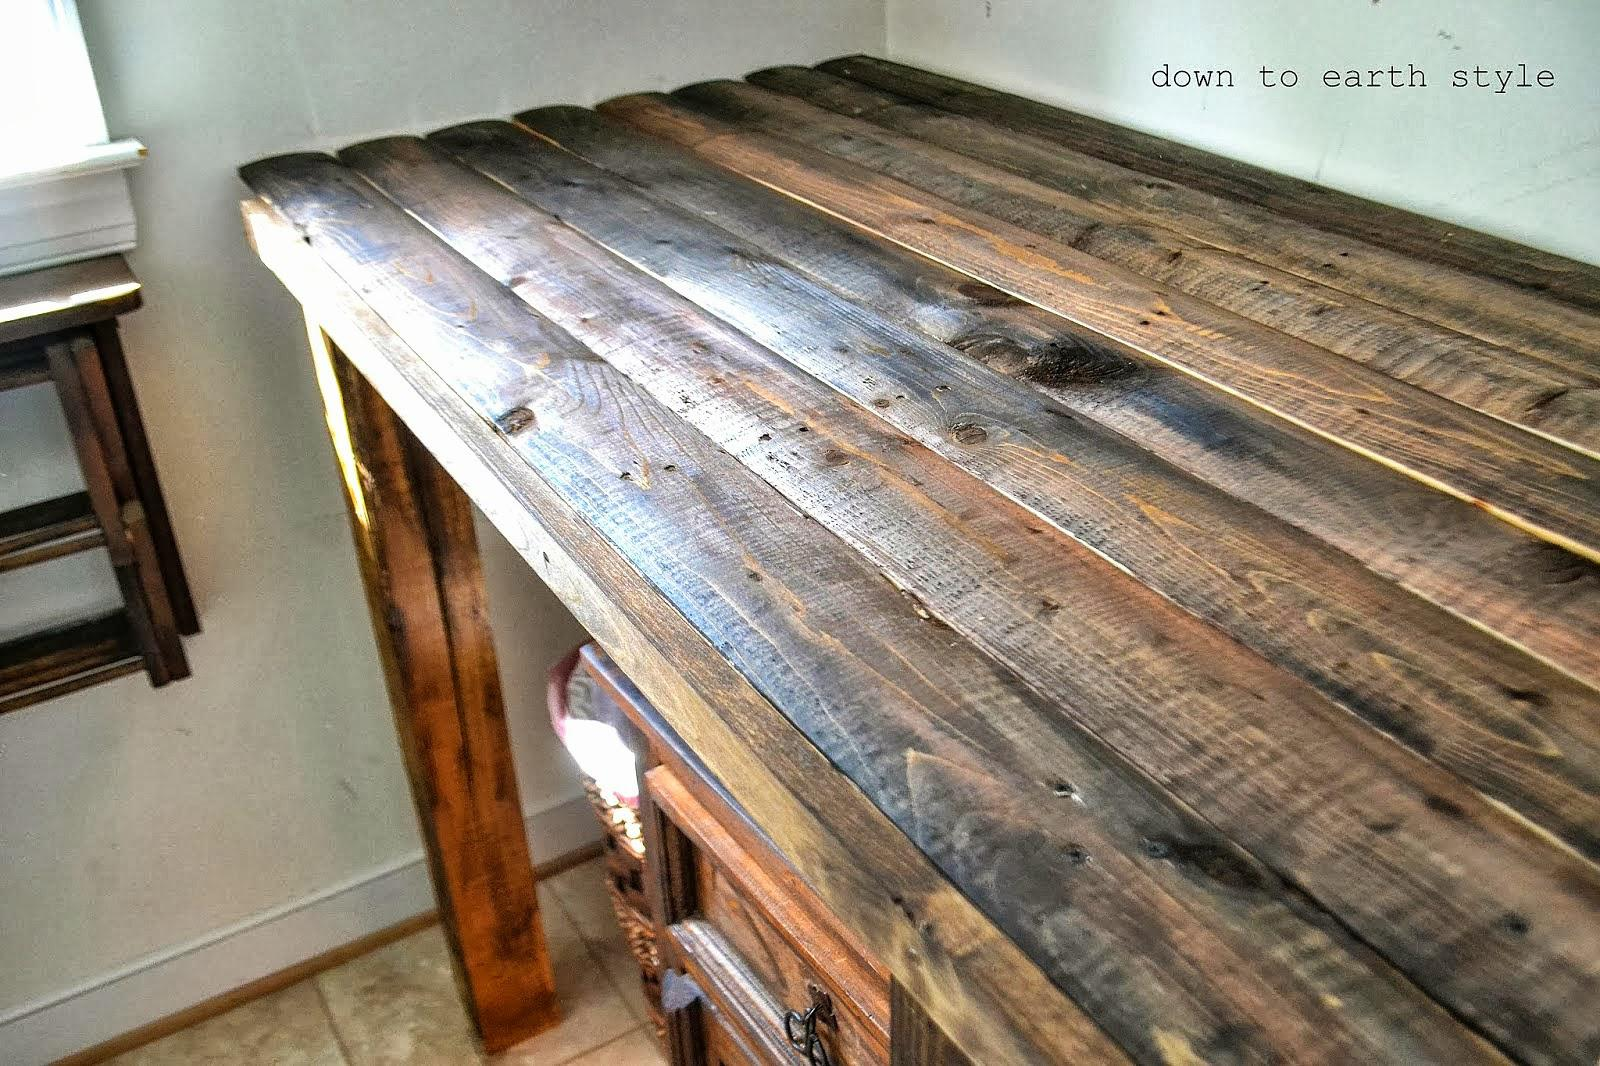wood: (228, 49, 1581, 1055)
